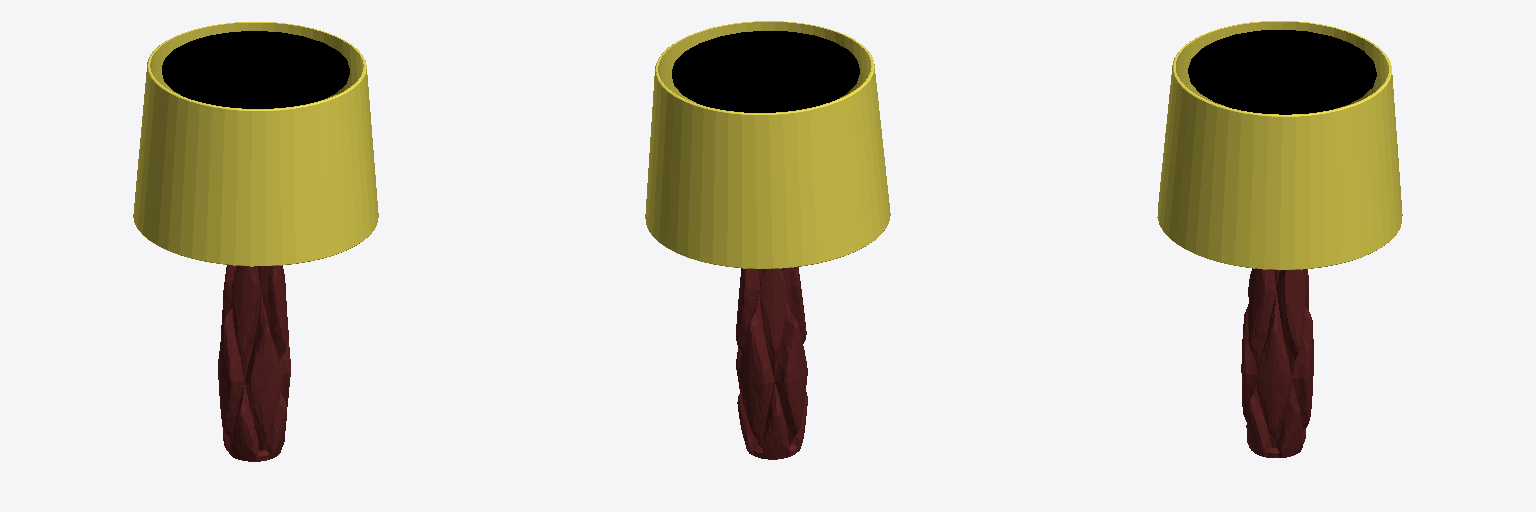
Rendered from light09.obj.
3 renders of one model, left to right at view 1: azimuth 30°, elevation 25°; view 2: azimuth 150°, elevation 25°; view 3: azimuth 270°, elevation 25°, orthographic.
Parts seen in each view (by area): view 1: Object.1; view 2: Object.1; view 3: Object.1.
Part boxes in pixels (x1,y1,x2,y2): Object.1: (133,22,378,461); Object.1: (645,21,890,459); Object.1: (1157,21,1402,457).
Size of the model in its own units: 74.76 by 130 by 74.63.